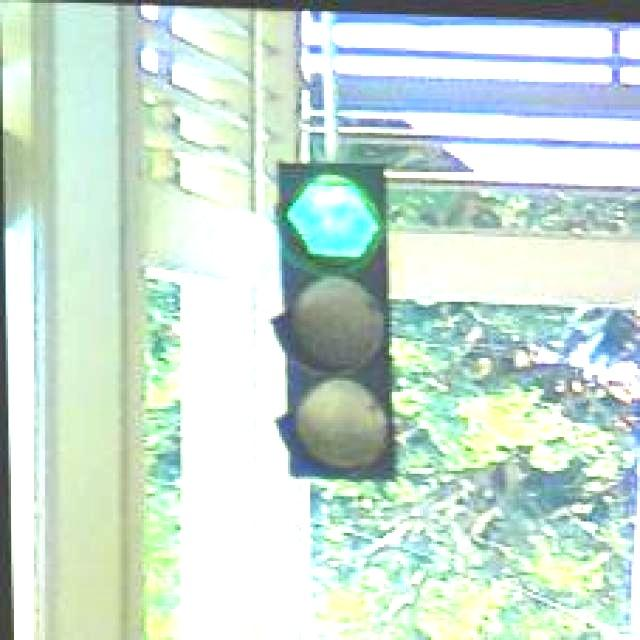Green: (272, 159, 393, 478)
